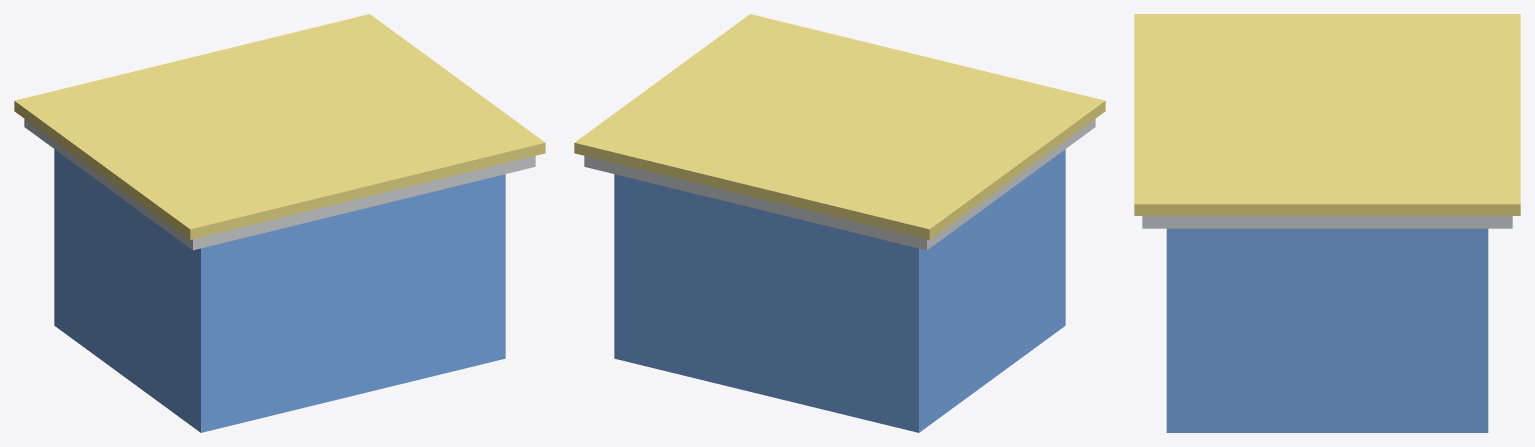
Rendered from Toy_Tower.fbx.
The picture shows the model from 3 angles, left to right: view 1: azimuth 30°, elevation 25°; view 2: azimuth 150°, elevation 25°; view 3: azimuth 270°, elevation 25°; orthographic projection. The views are drawn at different scales.
Visible parts, largest first — view 1: Toy_Tower; view 2: Toy_Tower; view 3: Toy_Tower.
Part boxes in pixels (box(x1,y1,x2,y2)): Toy_Tower: box(14, 14, 545, 432); Toy_Tower: box(574, 14, 1105, 432); Toy_Tower: box(1134, 14, 1520, 432).
Bounding box in the file's own units: 2.8 × 1.66 × 2.4.
